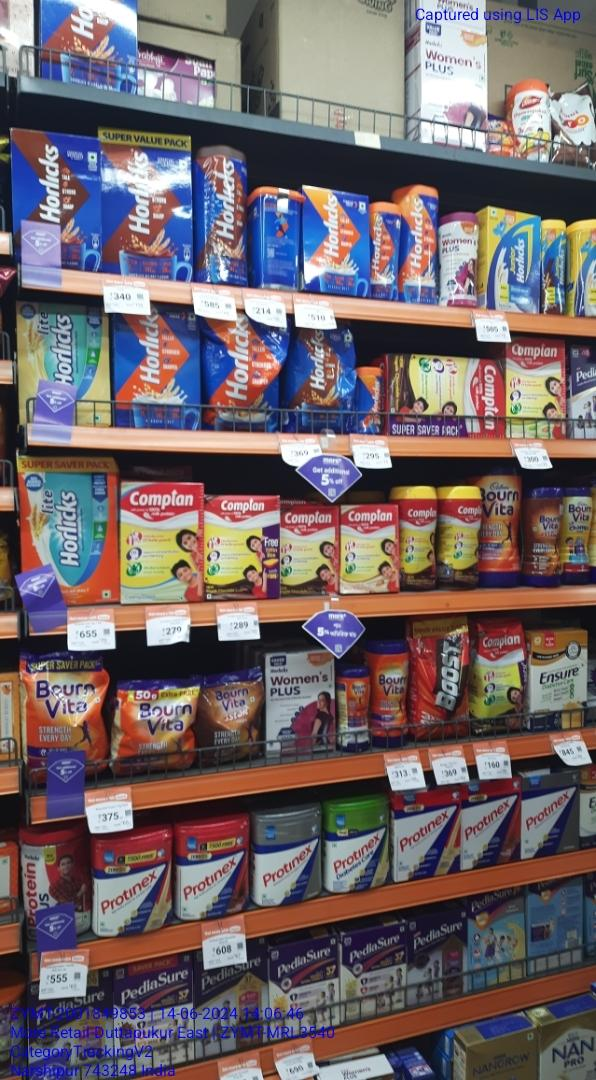BOURN_VITA_CHAMPS_500_G_JAR: (565, 488, 596, 584)
BOURN_VITA_FIVE_STAR_MAGIC_500_G_JAR: (527, 488, 558, 585)
BOURN_VITA_FIVE_STAR_MAGIC_500_G_POUCH: (197, 678, 260, 755)
COMPLAN_CHOCOLATE_200_GMS_PACK: (206, 497, 280, 602), (281, 505, 340, 597)
COMPLAN_KESAR_BADAM_200_GMS_PACK: (341, 503, 398, 596)
COMPLAN_PISTA_BADAM_500_GMS_PACK: (122, 483, 203, 601), (507, 340, 564, 438)
HORLICK_CHOCOLATE_1_KG_JAR: (200, 147, 250, 282)
PEDIASURE_CHOCOLATE_500_G_PACK: (409, 914, 465, 995)
PEDIASURE_VANILLA_500_G_PACK: (269, 941, 341, 1018), (345, 931, 407, 1005)
PROTINEX_CHOCOLATE_400_G_JAR: (180, 827, 250, 920)
PROTINEX_ORIGINAL_400_G_JAR: (255, 816, 317, 903)
PROTINEX_VANILLA_400_G_JAR: (96, 828, 169, 942)
